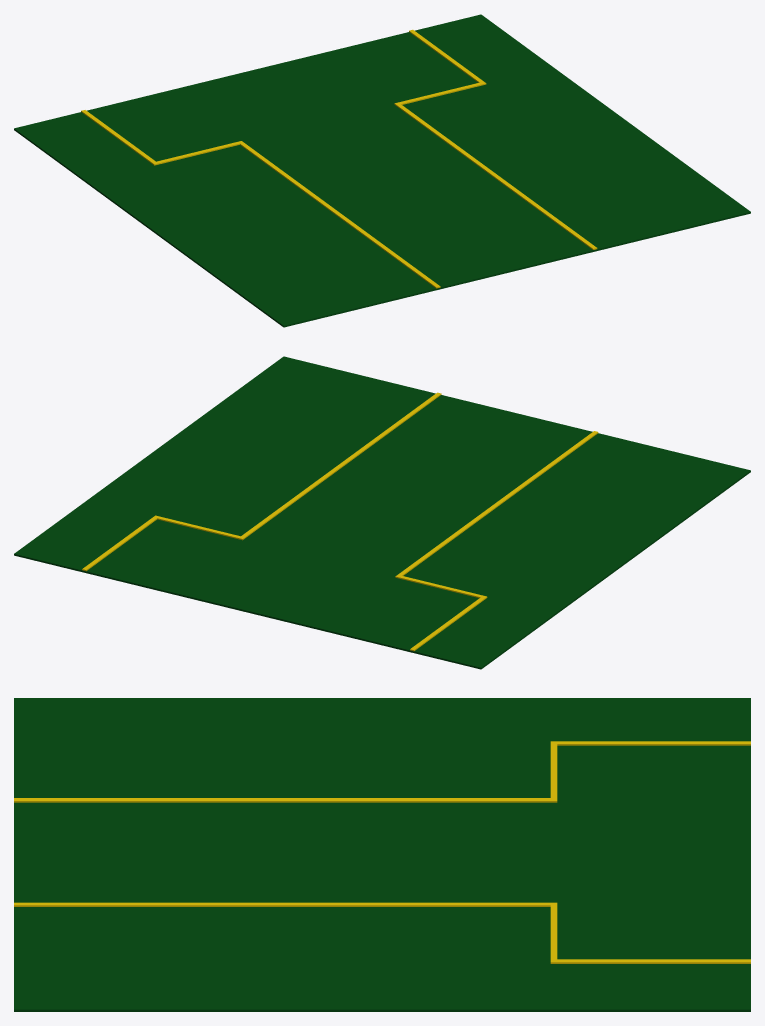
File: parts_floor.glb
3 views of the same model, one above another, from view 1: azimuth 30°, elevation 25°; view 2: azimuth 150°, elevation 25°; view 3: azimuth 270°, elevation 25° (orthographic). The views are drawn at different scales.
Parts seen in each view (by area): view 1: Plane.001; view 2: Plane.001; view 3: Plane.001.
Part boxes in pixels (x1,y1,x2,y2): Plane.001: (14,14,750,327); Plane.001: (14,356,750,669); Plane.001: (14,698,750,1011).
Bounding box in the file's own units: 115 × 0.7323 × 116.
